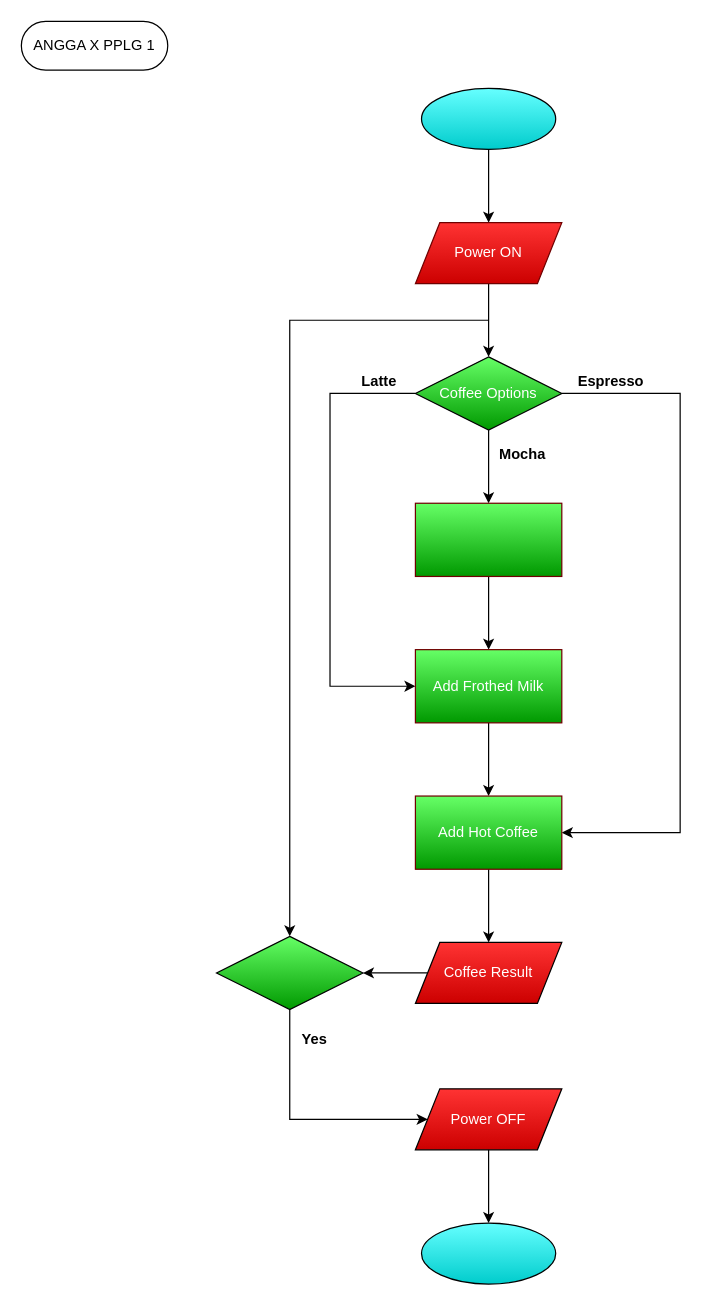
Image size: 711x1305. Some labels were removed from this diagram. The centre of each missing label's shape, as x and y in pixels:
Add Chocolate Powder: pixel 488 539
END: pixel 488 1253
Power Pressed?: pixel 289 972
START: pixel 488 118
